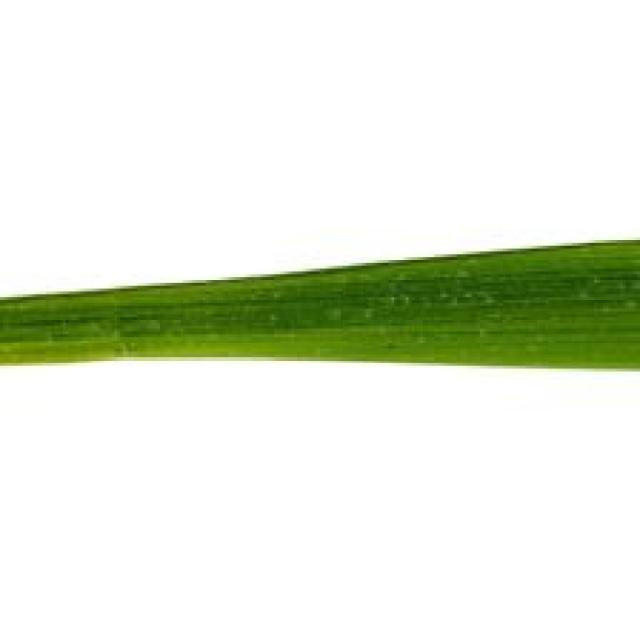Rice___Healthy_Rice_Plant: (0, 240, 637, 375)
